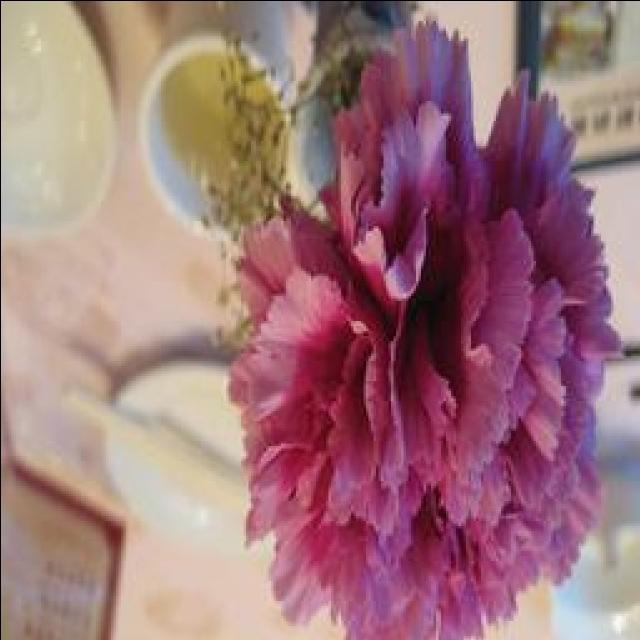carnation: (188, 32, 630, 640)
